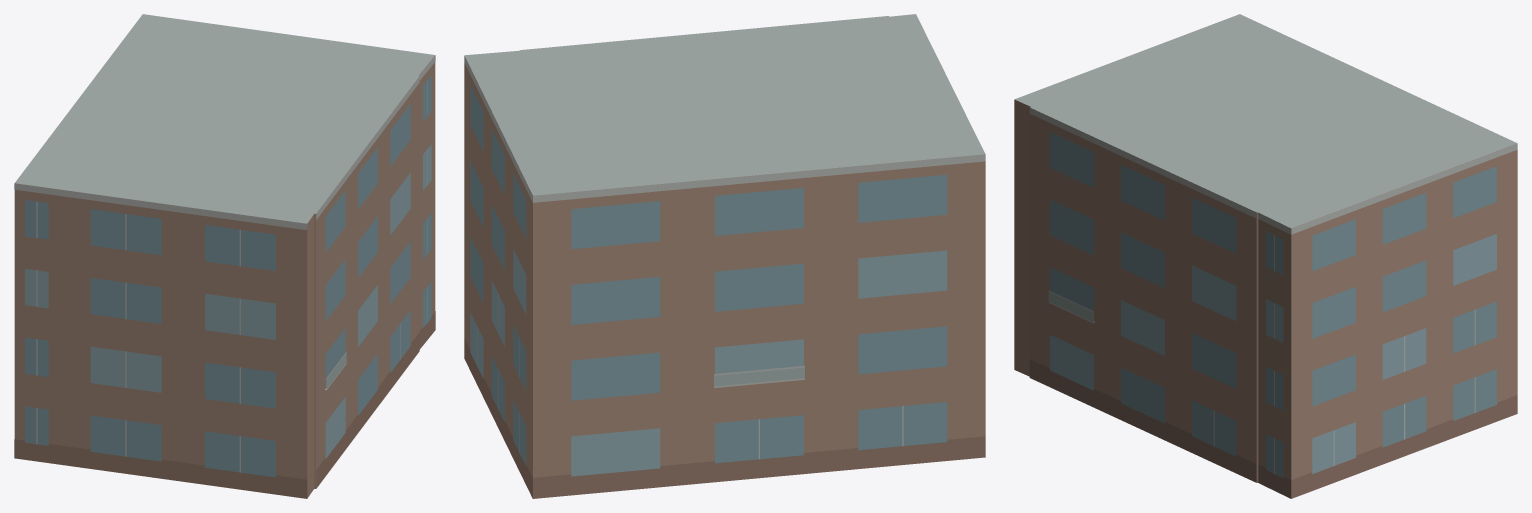
File: survey-upis-32840194.glb
3 views of the same model, side by side, from view 1: azimuth 30°, elevation 25°; view 2: azimuth 150°, elevation 25°; view 3: azimuth 270°, elevation 25° (orthographic). The views are drawn at different scales.
Parts seen in each view (by area): view 1: survey-upis-32840194.tmp; view 2: survey-upis-32840194.tmp; view 3: survey-upis-32840194.tmp.
Boxes of the visible parts, x1,y1,x2,y2 form: survey-upis-32840194.tmp: (14,14,435,498); survey-upis-32840194.tmp: (464,14,985,498); survey-upis-32840194.tmp: (1014,14,1517,498).
Bounding box in the file's own units: 17.86 × 10.5 × 17.72.
